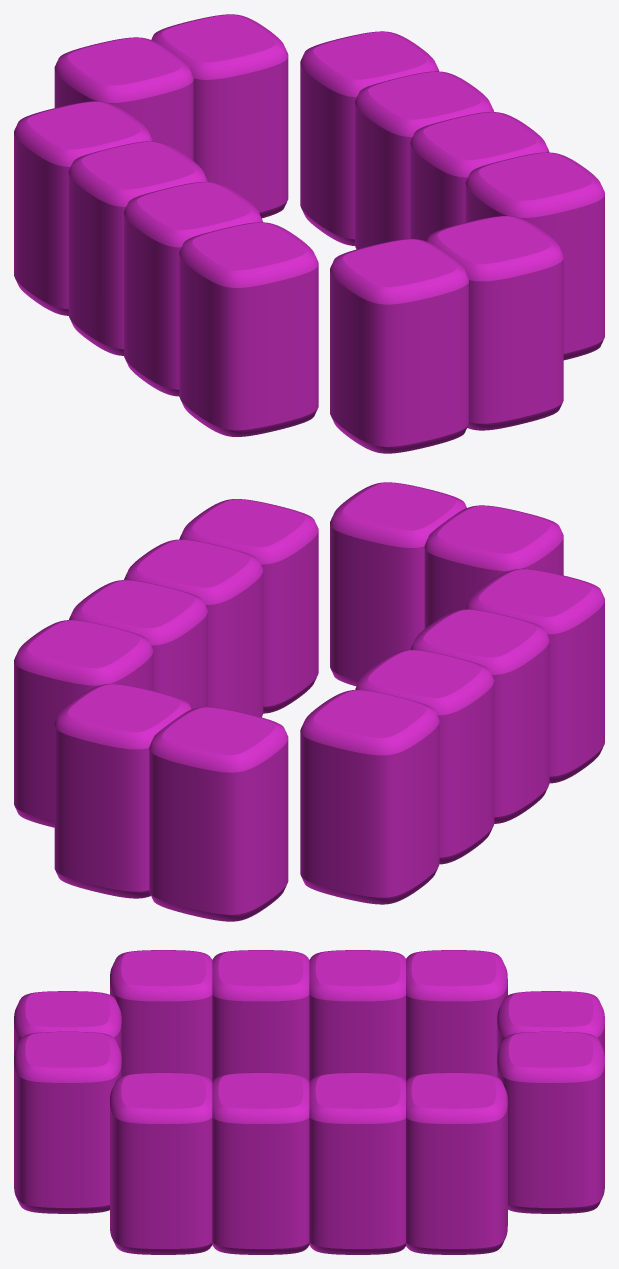
Rendered from Letter_O.fbx.
The picture shows the model from 3 angles, top to bottom: view 1: azimuth 30°, elevation 25°; view 2: azimuth 150°, elevation 25°; view 3: azimuth 270°, elevation 25°; orthographic projection. The views are drawn at different scales.
Visible parts, largest first — view 1: Letter_O; view 2: Letter_O; view 3: Letter_O.
Part boxes in pixels (box(x1,y1,x2,y2)): Letter_O: box(14, 14, 604, 453); Letter_O: box(14, 482, 604, 921); Letter_O: box(14, 950, 604, 1254).
Bounding box in the file's own units: 0.3465 × 0.14 × 0.5146.
